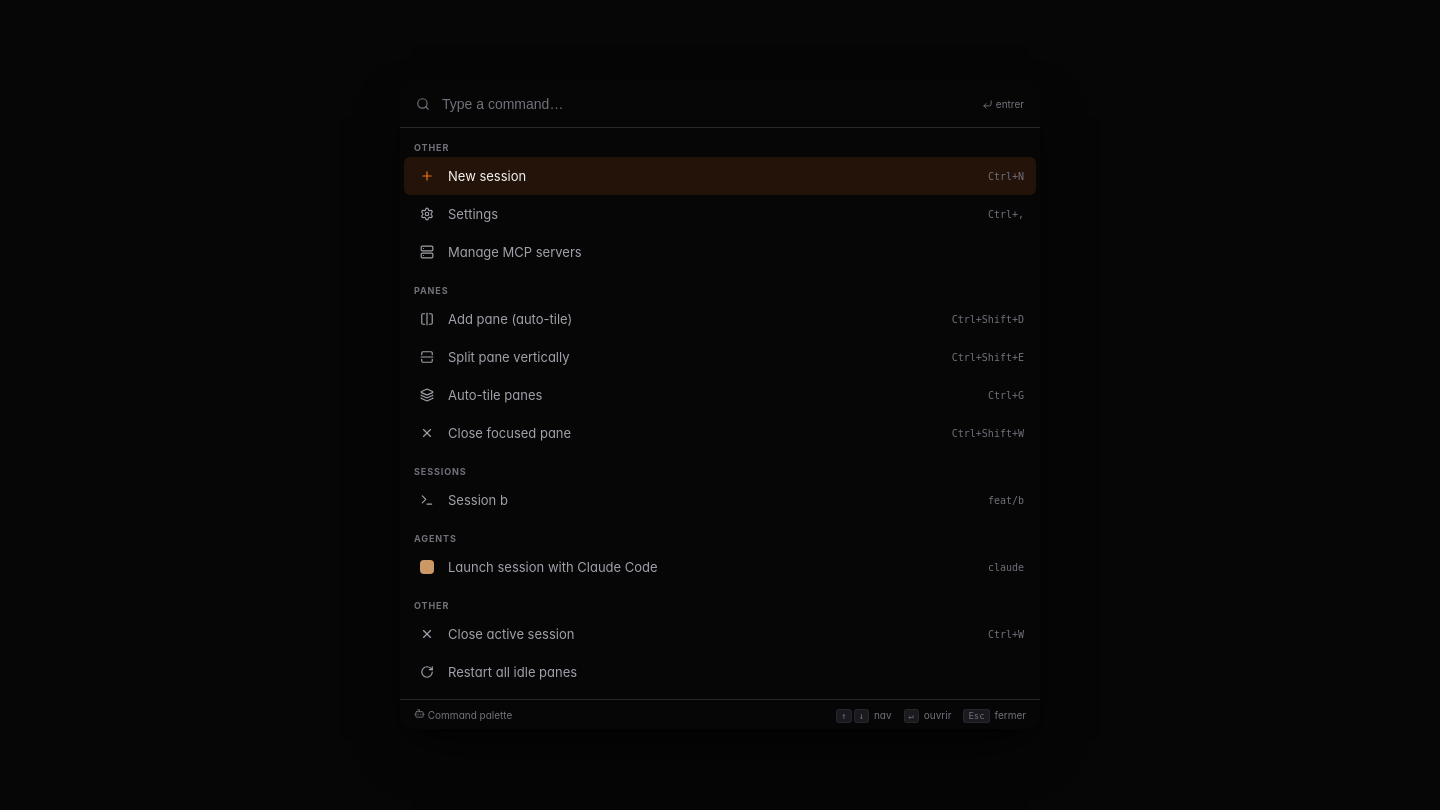
it: CommandPalette › fuzzy-filters the list as the user types
This screenshot has width=1440, height=810.
Type "session b" into the dropdown at (706, 104), box top-left (440, 95), bottom-right (972, 113)
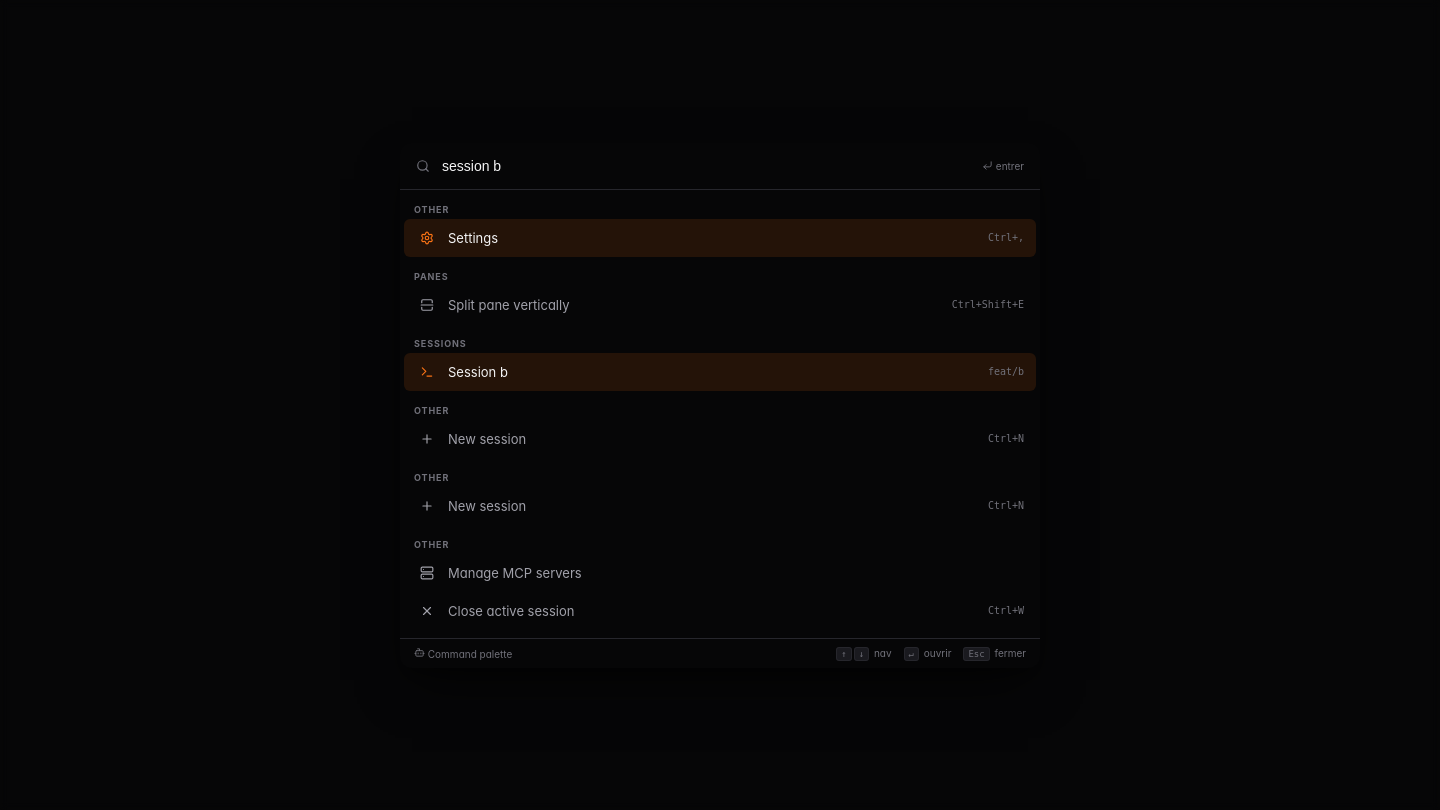
Expected: the text "Session b" is shown, top-left (448, 364), bottom-right (508, 380)
Result: the option "Auto-tile panes" is gone
